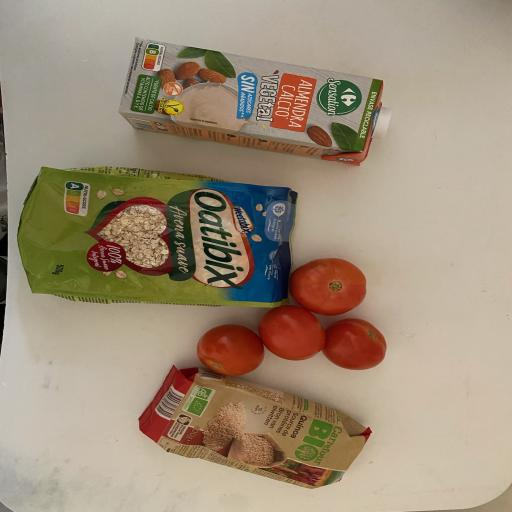almond_milk: (118, 35, 396, 171)
oats: (17, 160, 295, 312)
quinoa: (134, 364, 373, 491)
tomato: (286, 256, 371, 316), (318, 316, 392, 372), (257, 304, 328, 362), (194, 322, 266, 378)
